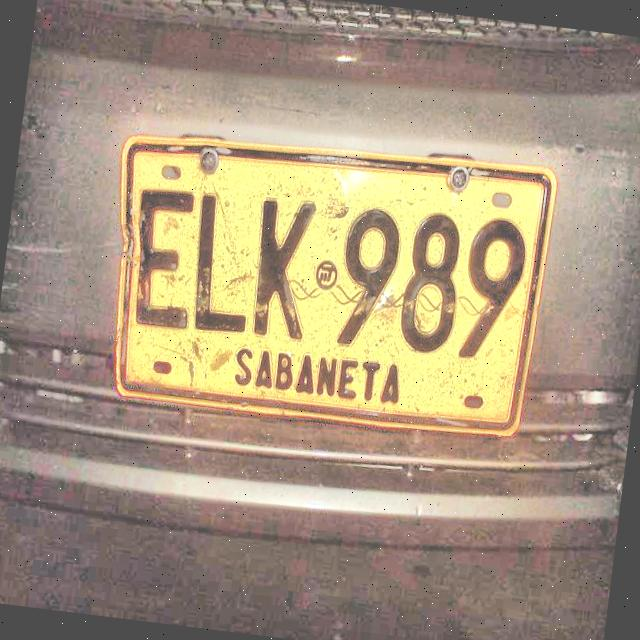8: (395, 206, 462, 355)
9: (454, 214, 532, 363), (334, 202, 404, 351)
E: (133, 187, 196, 332)
K: (249, 195, 322, 342)
L: (191, 191, 255, 334)
